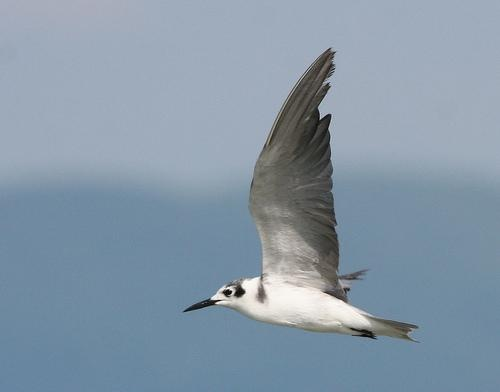bird: (183, 48, 421, 346)
